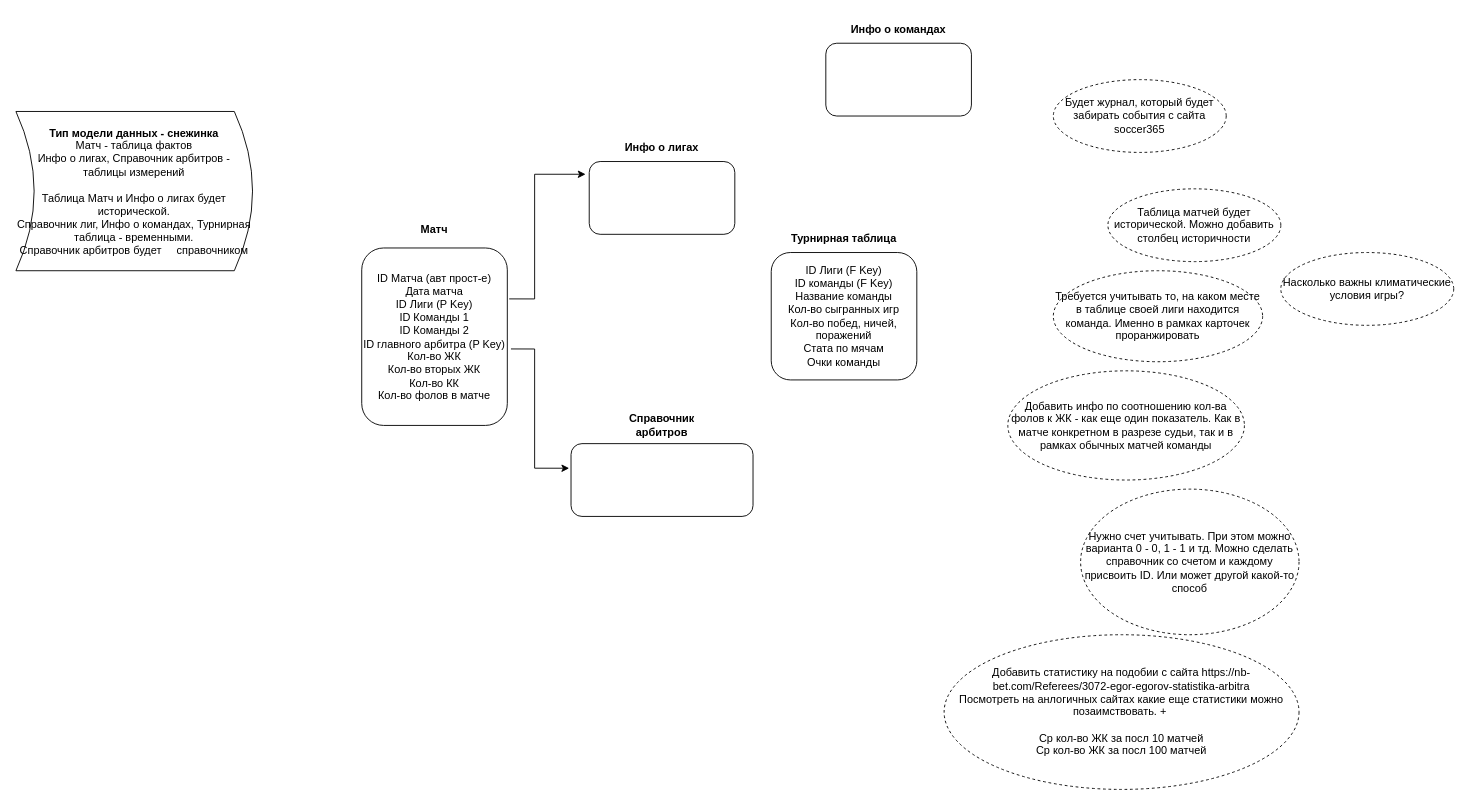
This 1470x805 diagram has some shape labels left out. The centre of each missing label's shape, as x and y in pixels:
ID главного арбитра (F Key) Фамилия-Имя главного арбитра Страна происхождения: point 661,479
ID Лиги (F Key) ID команды (F Key) Название команды Состав команды (игроки) ...: point 898,79
ID Лиги (F Key) Название лиги Страна ID Команды Название команды: point 661,197
